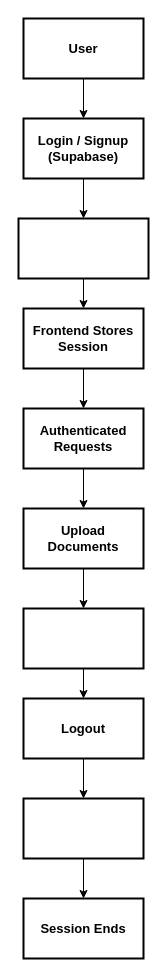
Image size: 166x976. Some labels were removed from this diagram. Here are the shapes that lost their labels. From the top down, the centre of each, then its label:
the point at 83,248: JWT Access Token
the point at 83,638: Use RAG Chat
the point at 83,828: Delete User Documents
